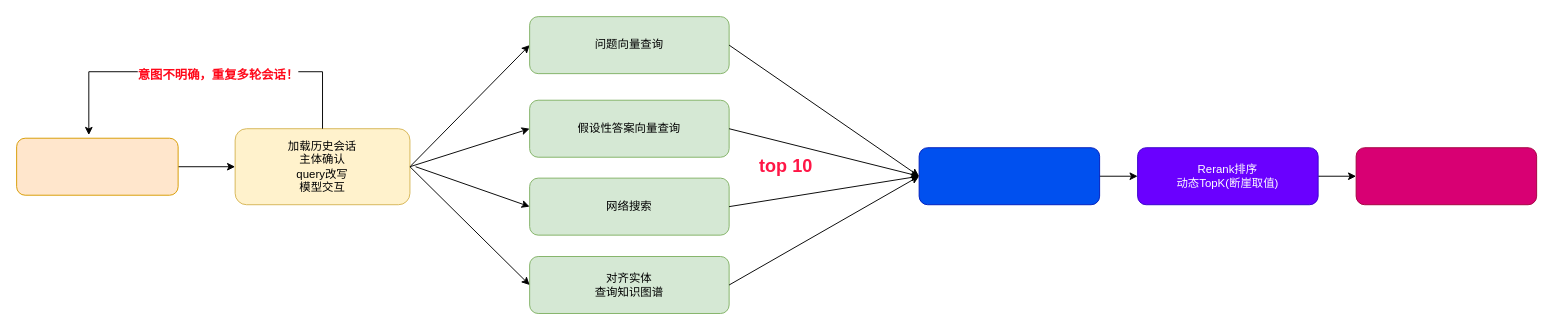
Image size: 1553x331. Some labels were removed from this diagram. Each missing label, with the box of its shape:
llm汇总输出: (1355, 147, 1537, 205)
RRF倒排融合 评分 Top10: (918, 147, 1100, 205)
用户提问: (16, 137, 178, 195)
